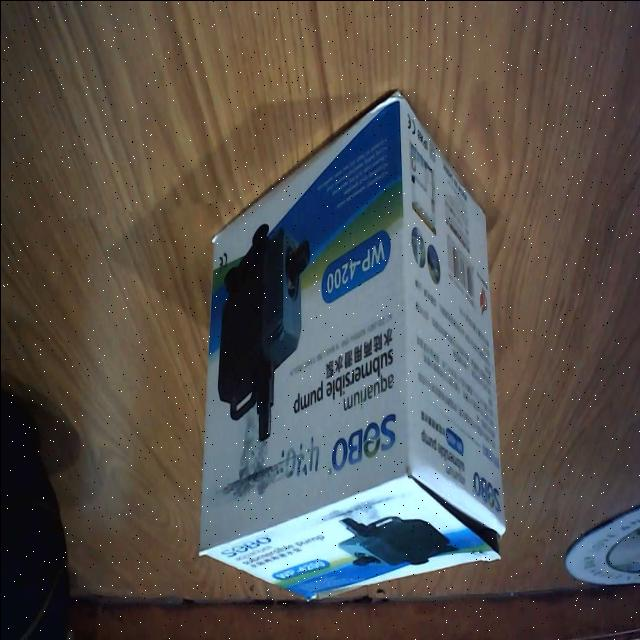SOBO_WP_4200: (193, 77, 507, 610)
